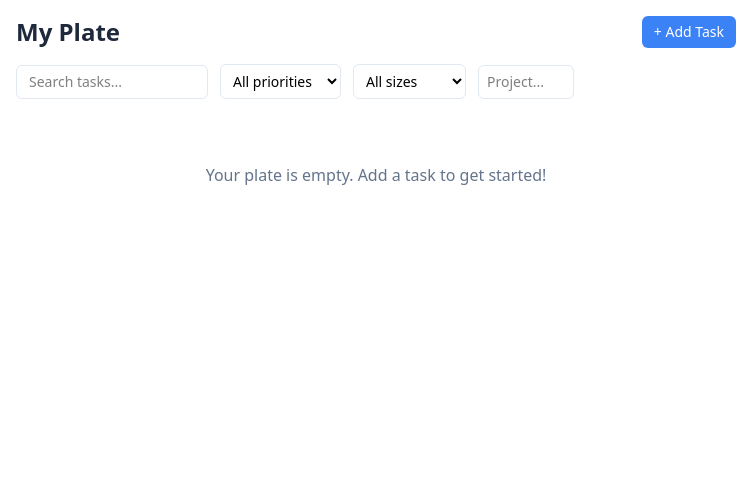
Test case: MyPlate › opens add form and creates a task
Expected: the heading "My Plate" is shown, [16, 16, 120, 48]
Click the button labelled "+ Add Task": [689, 32] box [642, 16, 736, 48]
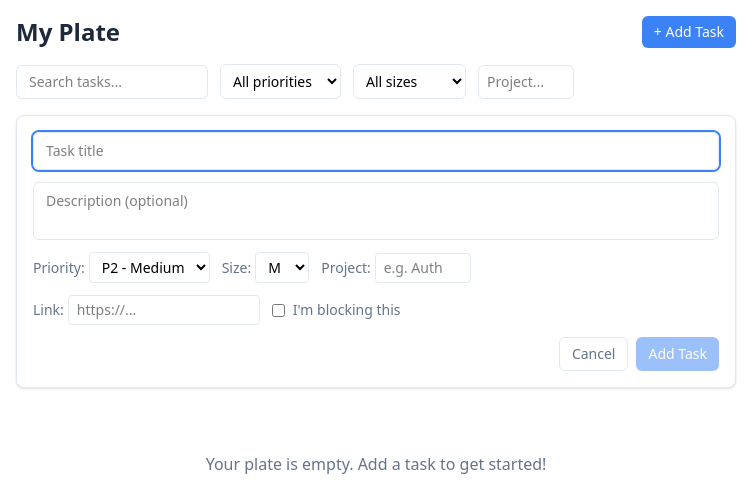
In the field labelled "Task title": [376, 151] box [33, 132, 719, 170], type "New task"
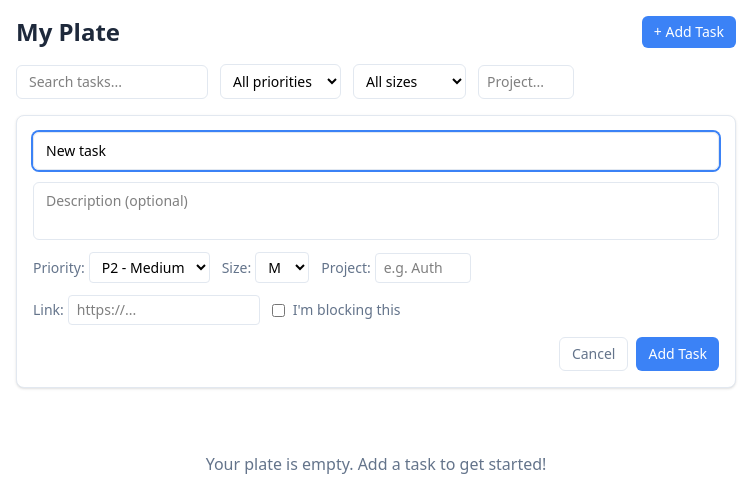
Click the button "Add Task": [678, 354] box [636, 337, 719, 371]
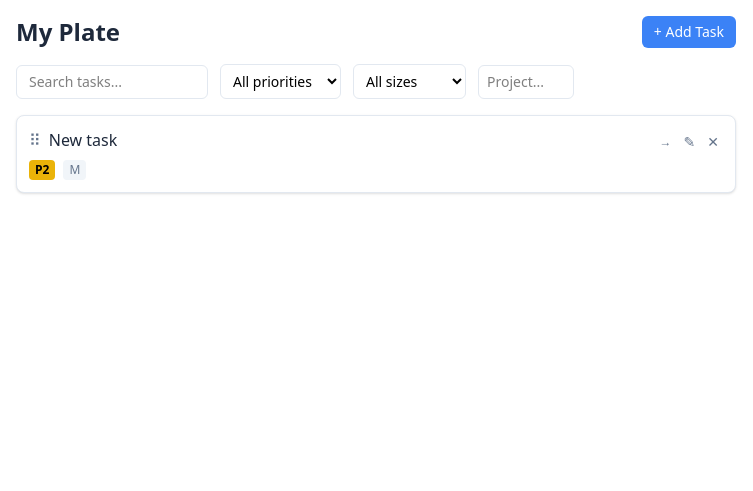
Result: the heading "New task" is shown at [49, 128, 117, 152]
